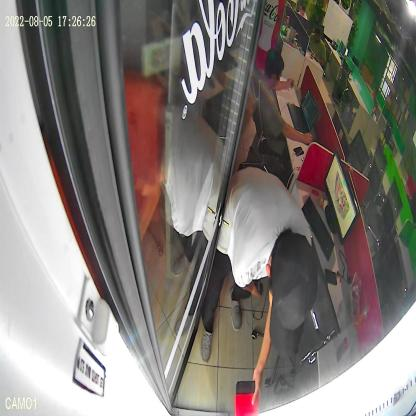red: (234, 380, 258, 416)
